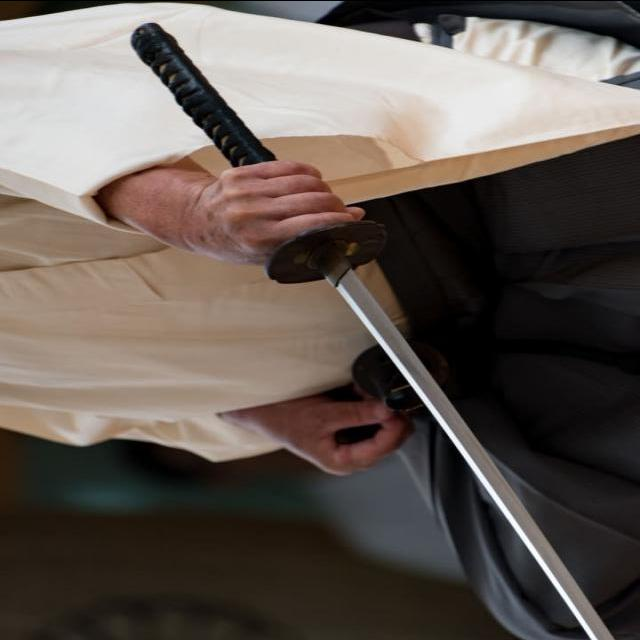katana: (127, 19, 614, 640)
